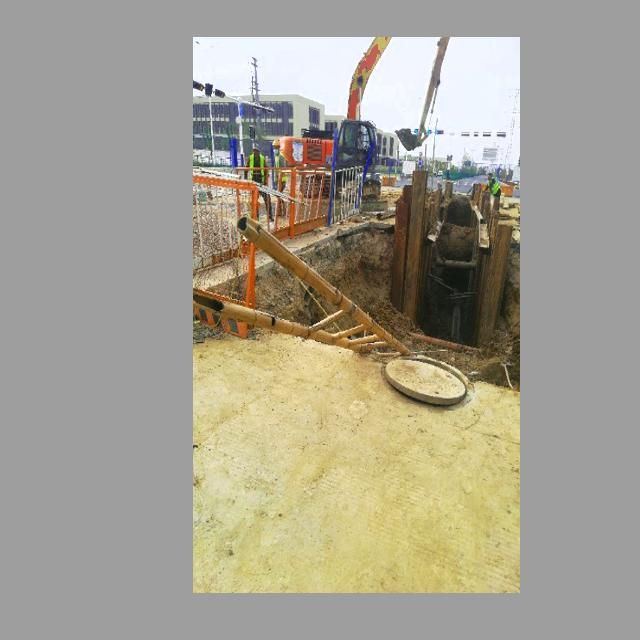uncovered: (385, 353, 477, 407)
